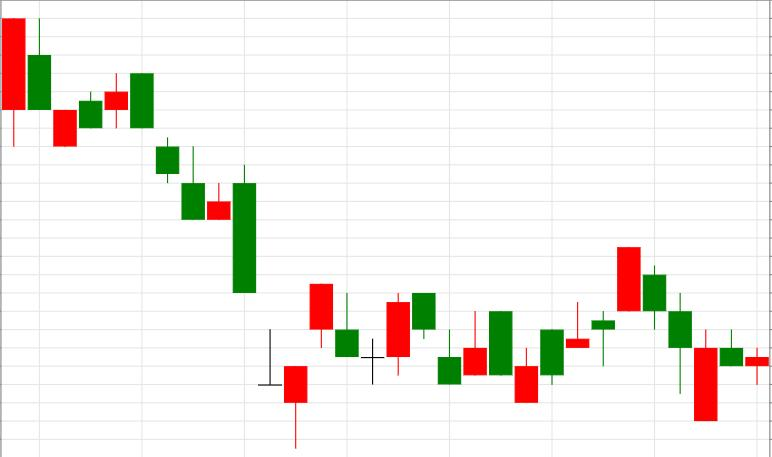hammer_rise: (131, 74, 307, 447)
